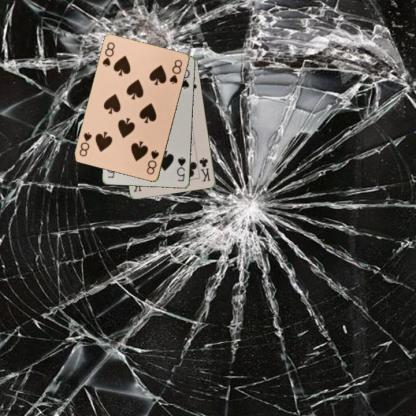5s: (175, 154, 187, 183)
8s: (144, 147, 160, 176), (100, 40, 116, 68)
Kc: (197, 156, 211, 183)
